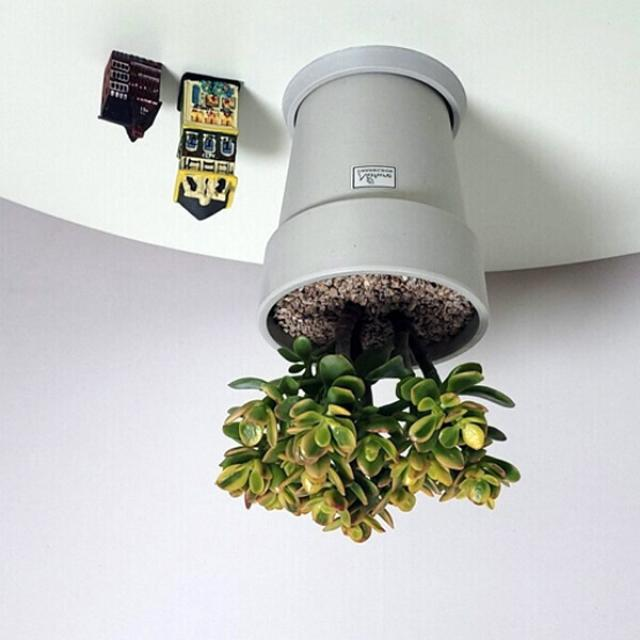Crassula: (398, 364, 515, 450), (355, 426, 452, 529), (422, 444, 520, 509), (285, 386, 359, 472), (256, 456, 339, 525), (222, 377, 298, 448), (322, 453, 379, 542), (216, 447, 272, 506)
